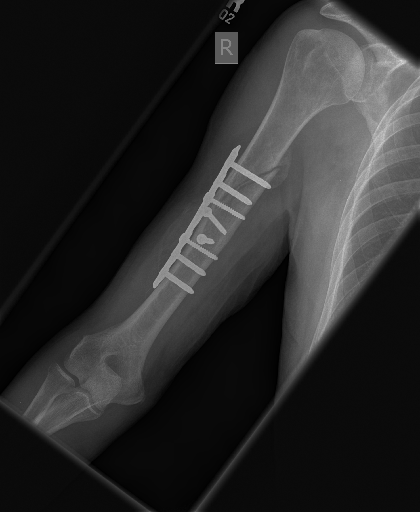implant: (149, 141, 278, 294)
